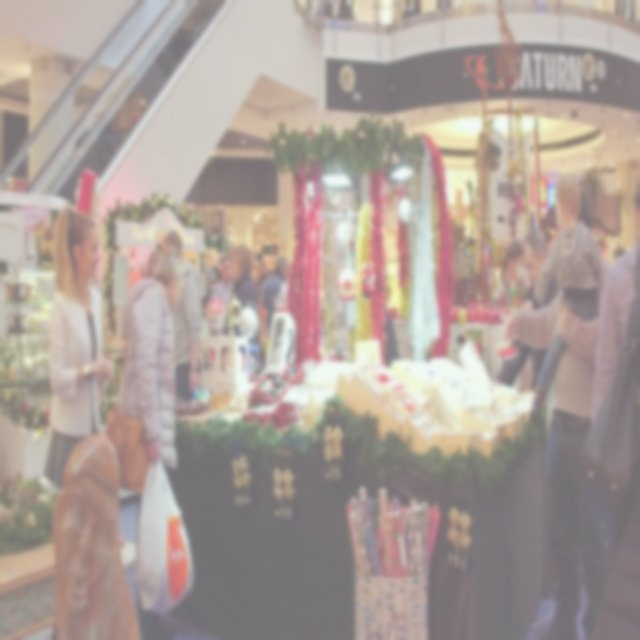pessoa: (524, 168, 640, 639), (502, 193, 616, 639), (42, 203, 116, 493), (43, 429, 143, 639), (119, 242, 188, 482), (588, 178, 640, 432), (584, 282, 640, 490), (492, 228, 560, 396), (162, 230, 202, 404), (294, 0, 466, 28), (222, 241, 262, 343), (360, 277, 400, 368), (491, 238, 525, 326), (260, 253, 291, 340), (203, 247, 221, 304), (606, 0, 639, 31), (212, 256, 233, 301), (252, 248, 270, 293)
